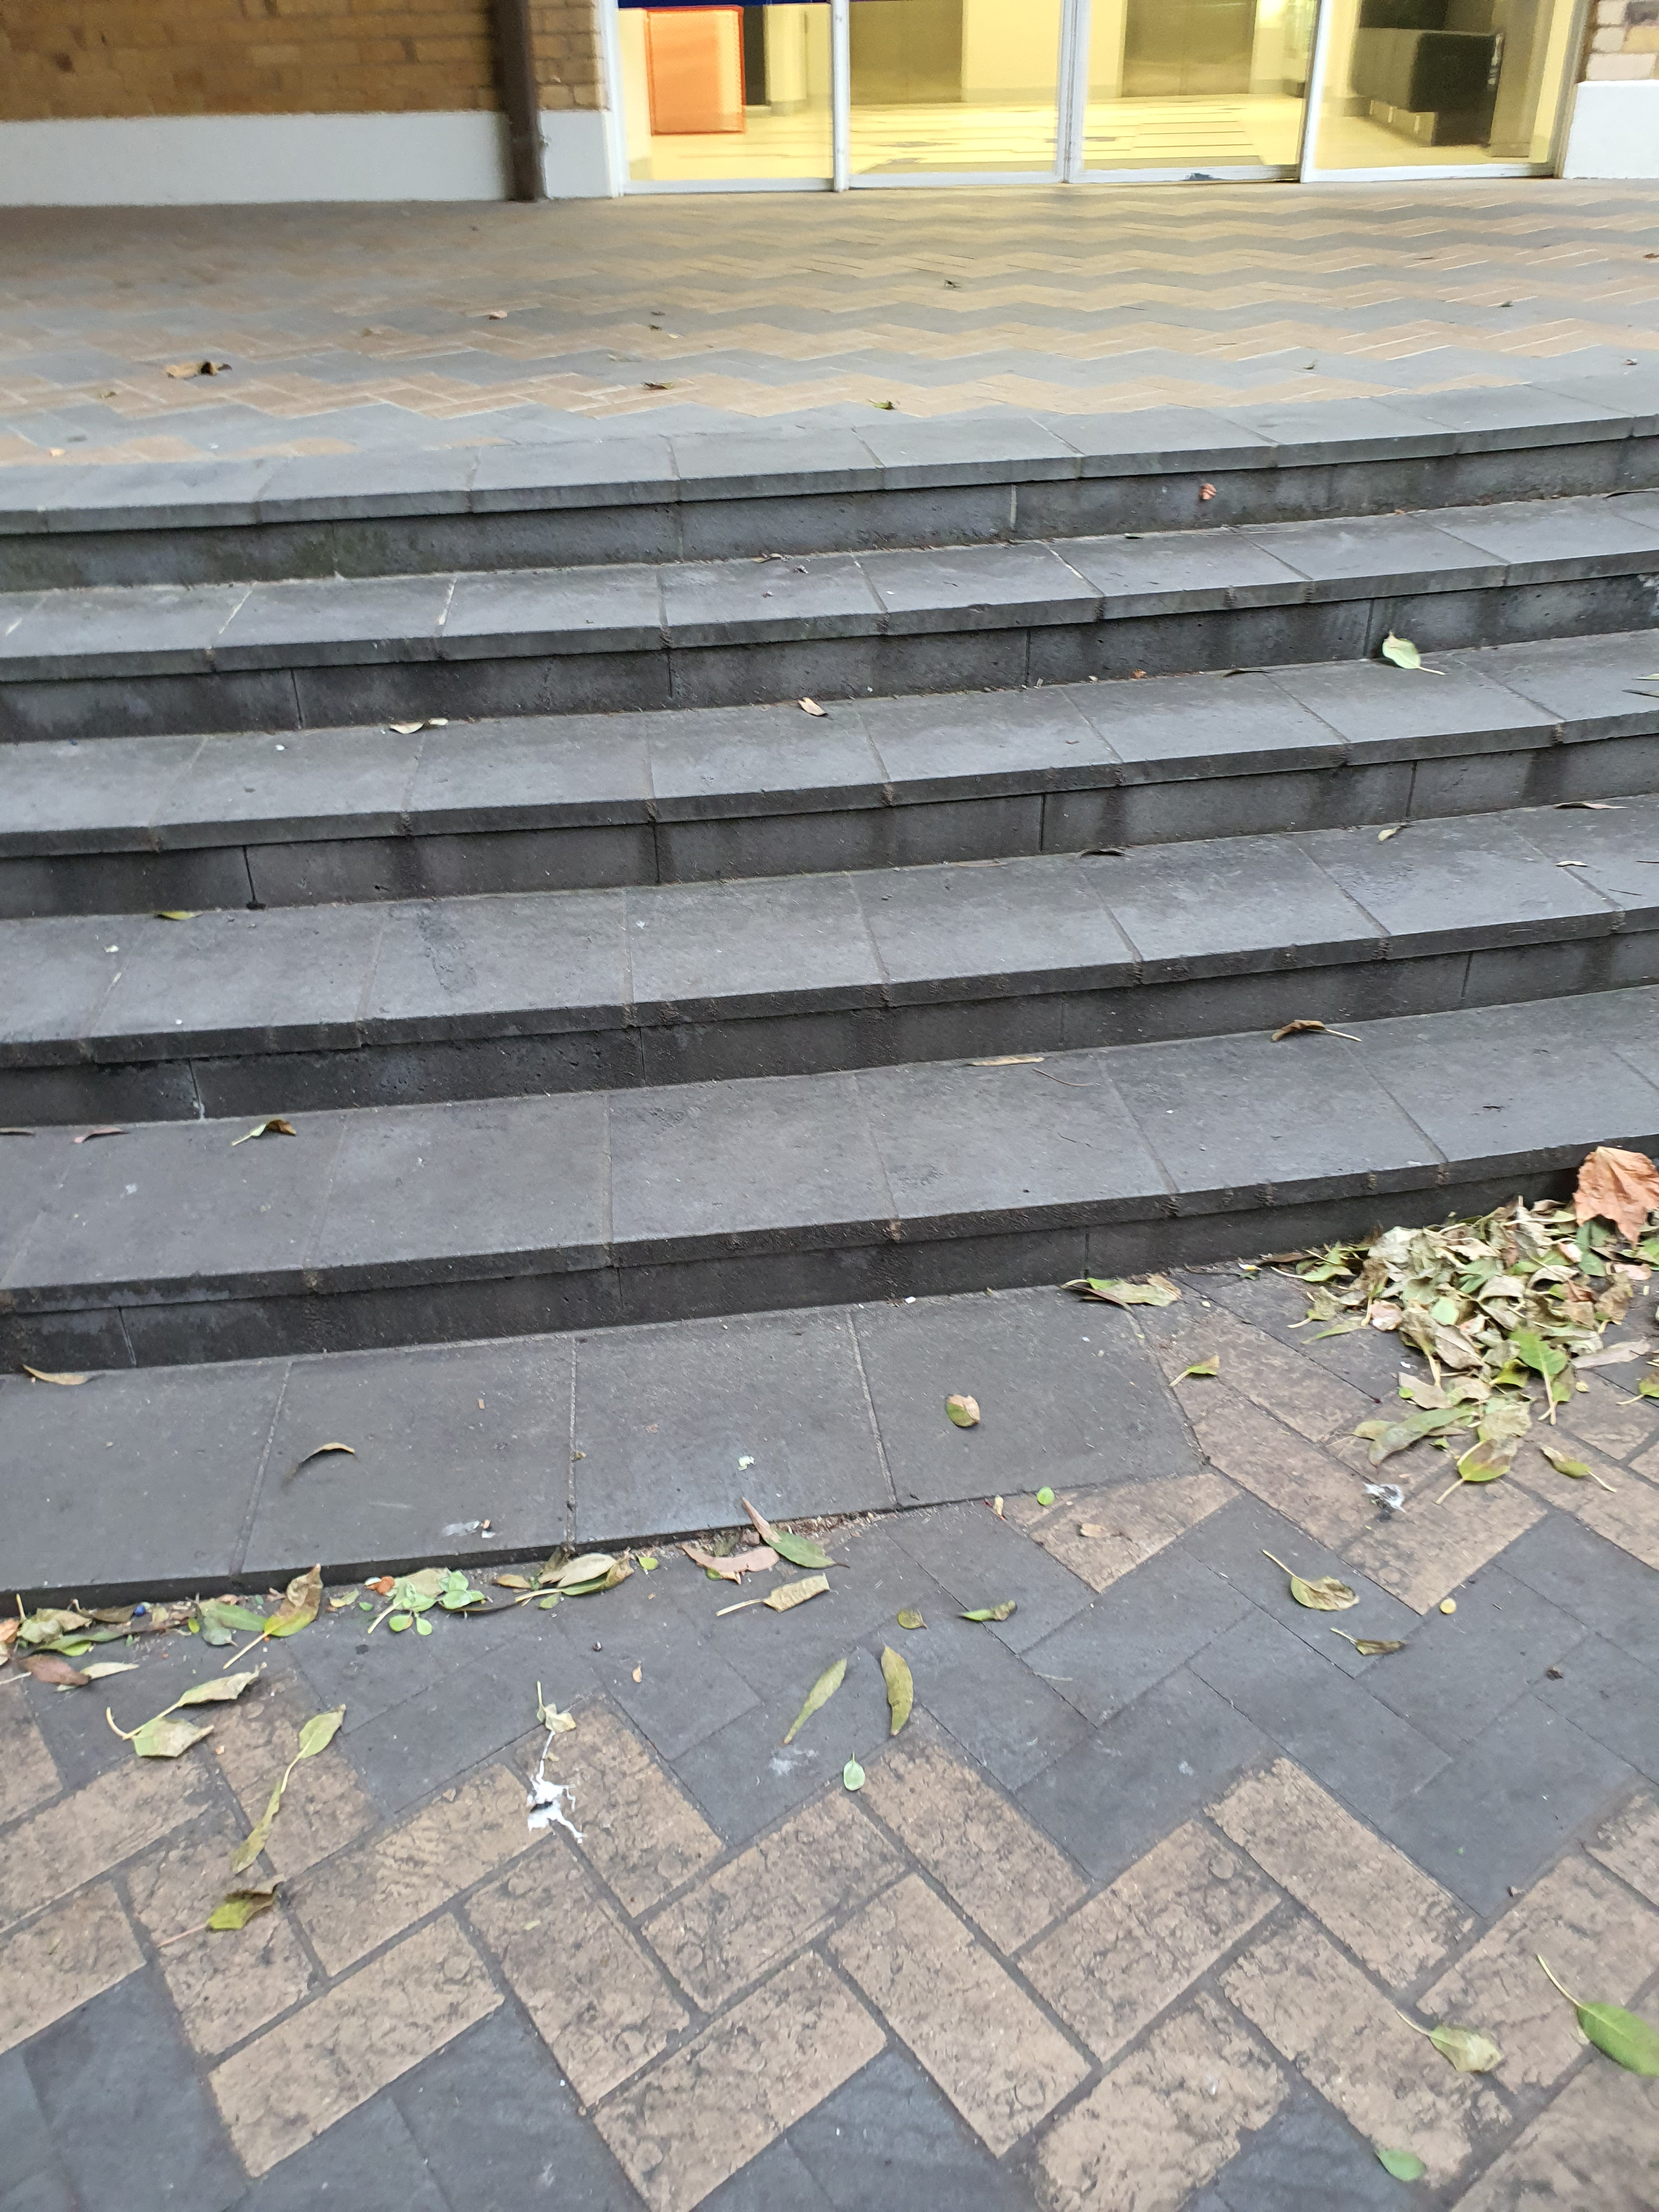upstairs: (23, 371, 1541, 1573)
